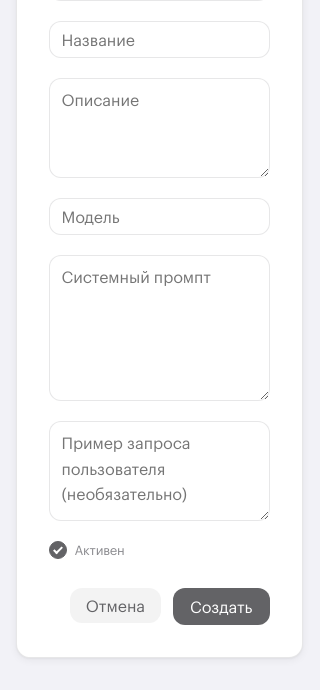
Test: NewAssistant — валидация формы › показывает ошибки при сабмите пустой формы
(page scrolled)
Click the button "Создать".
click(221, 606)  # box [173,588,270,625]
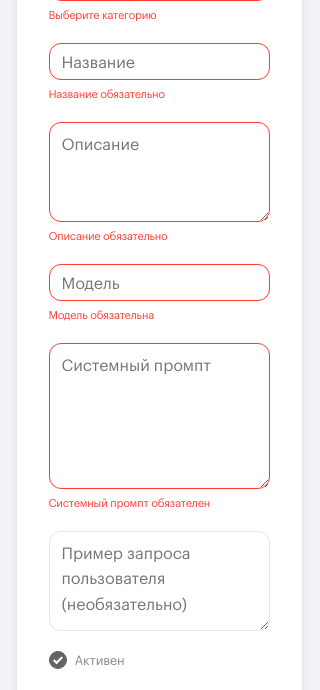
Now the text "Выберите категорию" is shown, box [48,8,157,21]
Now the text "Название обязательно" is shown, box [48,87,165,100]
Now the text "Описание обязательно" is shown, box [48,229,168,242]
